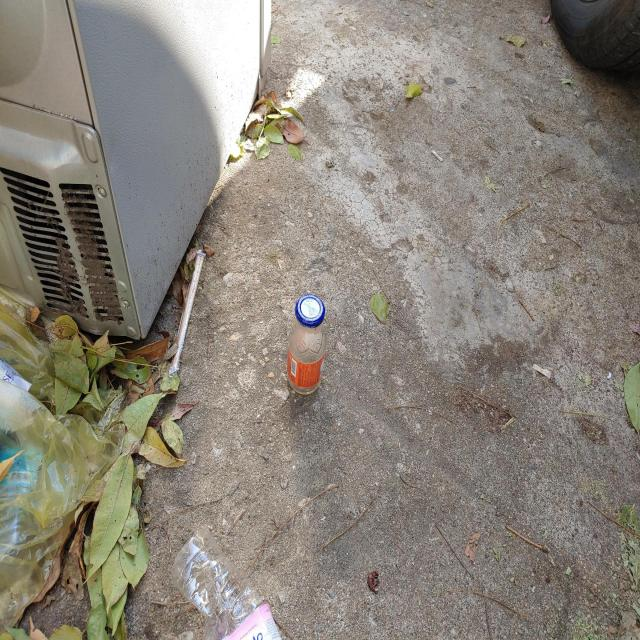glass: (287, 294, 326, 394)
